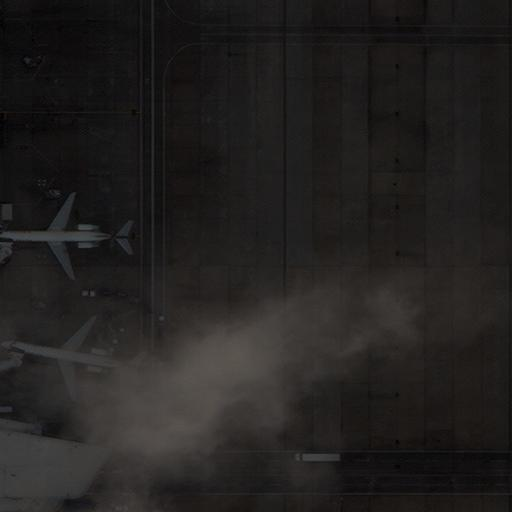Medium Civil Transport: (0, 316, 140, 398), (0, 194, 132, 278)
